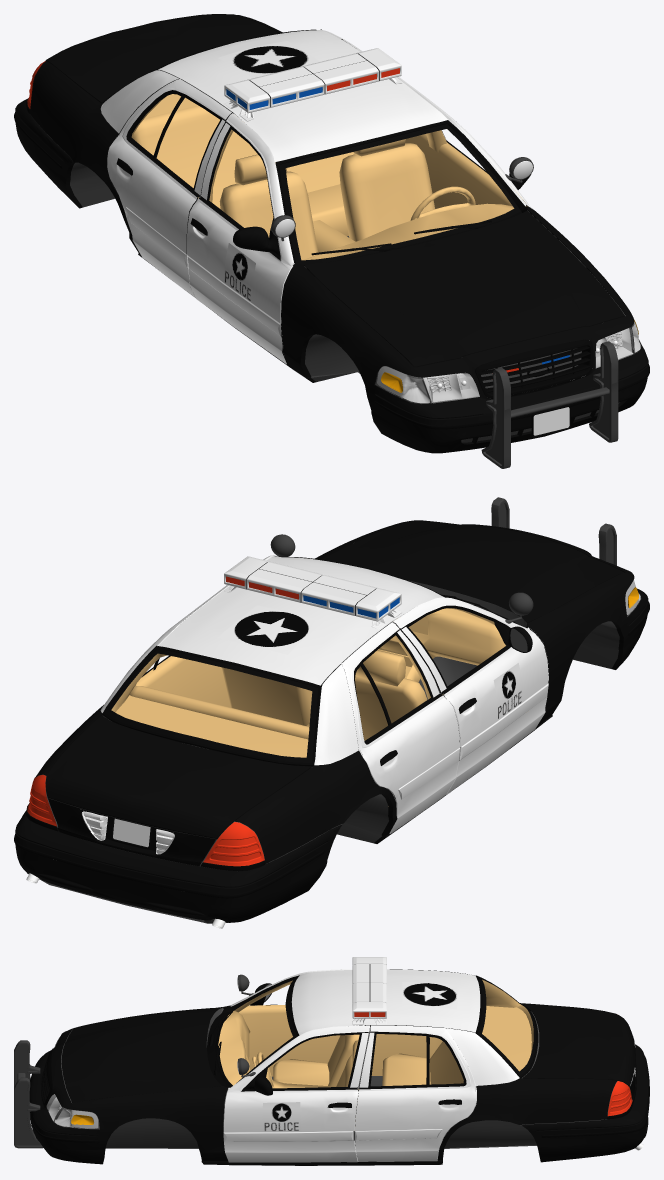
Rendered from CrownVicBetterPolice.fbx.
3 views of the same model, one above another, from view 1: azimuth 30°, elevation 25°; view 2: azimuth 150°, elevation 25°; view 3: azimuth 270°, elevation 25° (orthographic). The views are drawn at different scales.
Visible parts, largest first — view 1: Model::Ford_Crown_Vic.001, CAR23; view 2: Model::Ford_Crown_Vic.001, CAR23; view 3: Model::Ford_Crown_Vic.001, CAR23.
Boxes of the visible parts, x1,y1,x2,y2 form: Model::Ford_Crown_Vic.001: (14,14,649,453); CAR23: (224,48,618,468); Model::Ford_Crown_Vic.001: (14,520,649,928); CAR23: (224,497,616,621); Model::Ford_Crown_Vic.001: (29,969,649,1165); CAR23: (14,957,386,1148).
Size of the model in its own units: 2.13 by 5.51 by 1.39.
